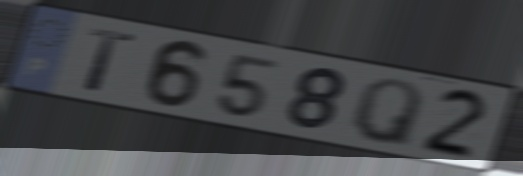2: (418, 87, 493, 164)
5: (216, 52, 285, 120)
6: (143, 36, 211, 111)
8: (283, 65, 349, 133)
Q: (348, 77, 426, 152)
T: (83, 24, 139, 96)
